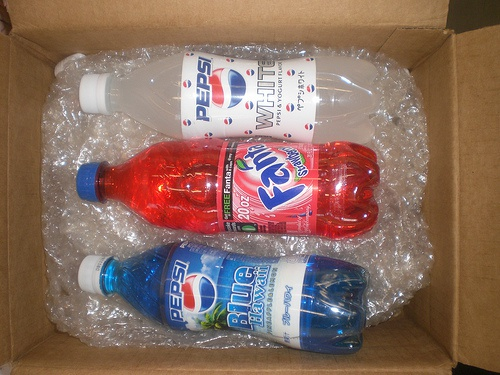emptybottle: (77, 242, 367, 355), (77, 139, 379, 238), (78, 51, 376, 146)
